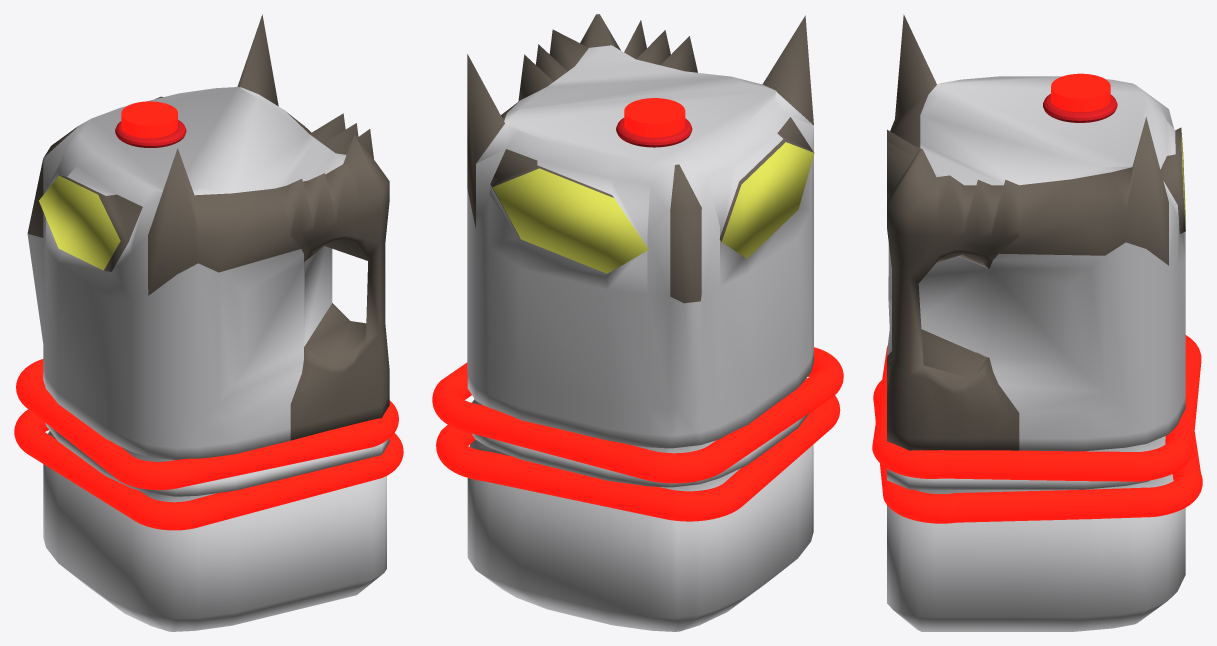
File: milkgallon.glb
3 views of the same model, side by side, from view 1: azimuth 30°, elevation 25°; view 2: azimuth 150°, elevation 25°; view 3: azimuth 270°, elevation 25° (orthographic). The views are drawn at different scales.
Visible parts, largest first — view 1: Milk.Gallon, Cylinder.002, Cylinder.001, Cap, Ring; view 2: Milk.Gallon, Cylinder.001, Cylinder.002, Cap, Ring; view 3: Milk.Gallon, Cylinder.001, Cylinder.002, Cap, Ring.
Part boxes in pixels (x1,y1,x2,y2): Milk.Gallon: (27, 14, 389, 631); Cylinder.002: (14, 409, 403, 530); Cylinder.001: (16, 359, 398, 490); Cap: (121, 101, 177, 138); Ring: (115, 120, 186, 147); Milk.Gallon: (467, 14, 814, 631); Cylinder.001: (432, 347, 843, 483); Cylinder.002: (436, 395, 840, 521); Cap: (624, 98, 685, 137); Ring: (616, 118, 692, 147); Milk.Gallon: (887, 14, 1185, 631); Cylinder.001: (872, 335, 1201, 481); Cylinder.002: (873, 380, 1202, 523); Cap: (1051, 73, 1110, 112); Ring: (1043, 94, 1117, 122).
Bounding box in the file's own units: 2.31 × 3.85 × 2.21.
